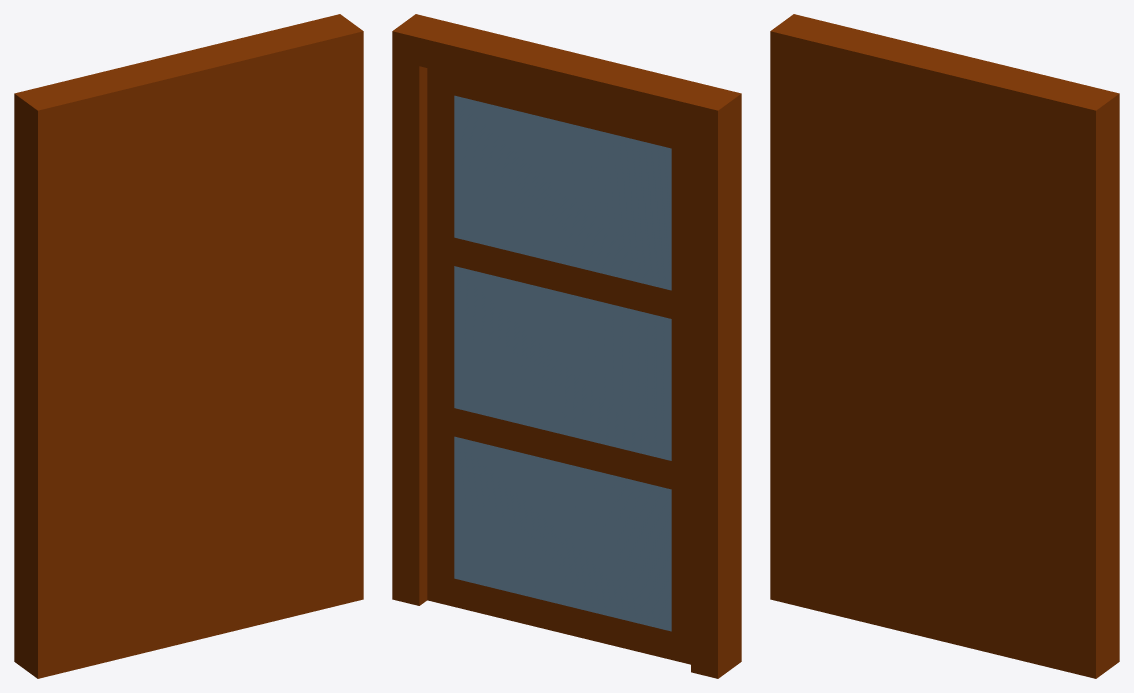
File: ThreeWindowDoor.fbx
3 views of the same model, side by side, from view 1: azimuth 30°, elevation 25°; view 2: azimuth 150°, elevation 25°; view 3: azimuth 330°, elevation 25° (orthographic).
Visible parts, largest first — view 1: ThreeWindowDoor; view 2: ThreeWindowDoor; view 3: ThreeWindowDoor.
Boxes of the visible parts, left/top/right/bottom form: ThreeWindowDoor: left=14, top=14, right=363, bottom=678; ThreeWindowDoor: left=392, top=14, right=741, bottom=678; ThreeWindowDoor: left=770, top=14, right=1119, bottom=678.
Bounding box in the file's own units: 240 × 400 × 30.
